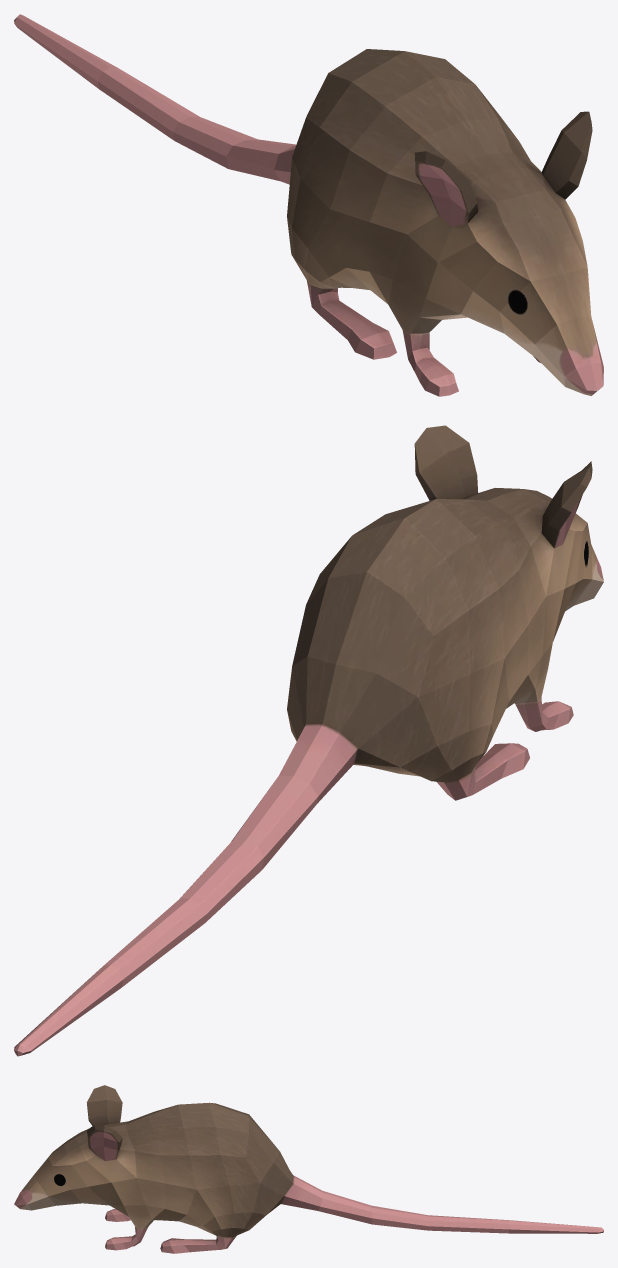
Rendered from eto2qFhG6XY.glb.
3 renders of one model, top to bottom at view 1: azimuth 30°, elevation 25°; view 2: azimuth 150°, elevation 25°; view 3: azimuth 270°, elevation 25°, orthographic. The views are drawn at different scales.
Parts seen in each view (by area): view 1: SpinyMouse_Mesh; view 2: SpinyMouse_Mesh; view 3: SpinyMouse_Mesh.
Part boxes in pixels (box(x1,y1,x2,y2)): SpinyMouse_Mesh: box(14, 14, 603, 396); SpinyMouse_Mesh: box(14, 425, 603, 1056); SpinyMouse_Mesh: box(14, 1085, 603, 1253).
Bounding box in the file's own units: 0.7479 × 1 × 4.1.
1 material, 1 textured.
